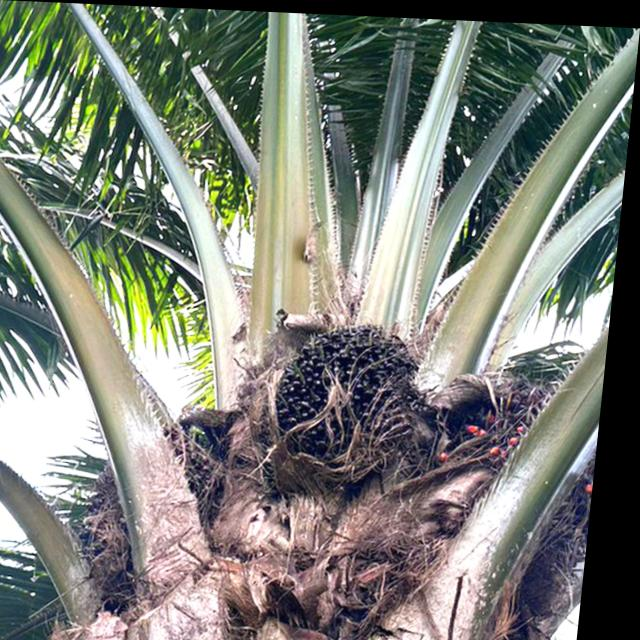unripe: (258, 308, 433, 476)
